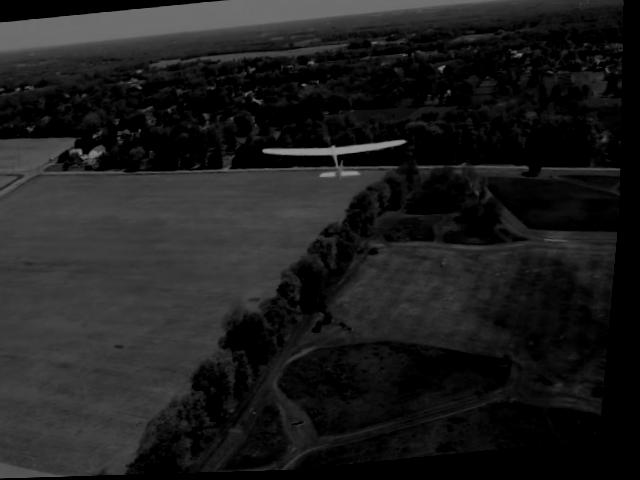hedef: (256, 124, 423, 196)
